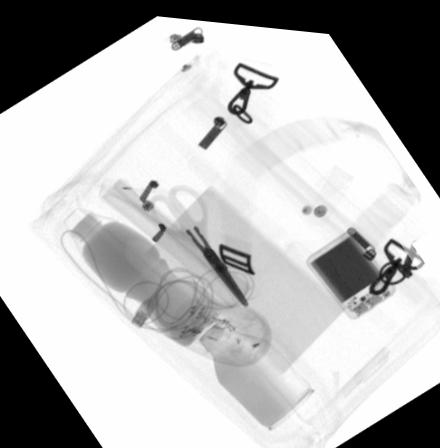Powerbank: (306, 221, 398, 313)
Scissors: (147, 179, 252, 302)
